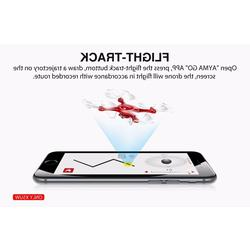drone: (81, 87, 176, 127)
